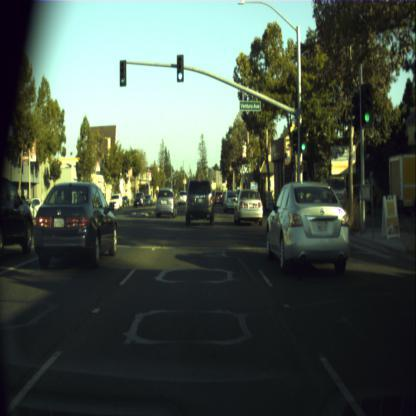Green: (361, 84, 372, 126), (176, 54, 184, 82), (299, 127, 307, 153)
GreenLeft: (120, 60, 126, 86)
